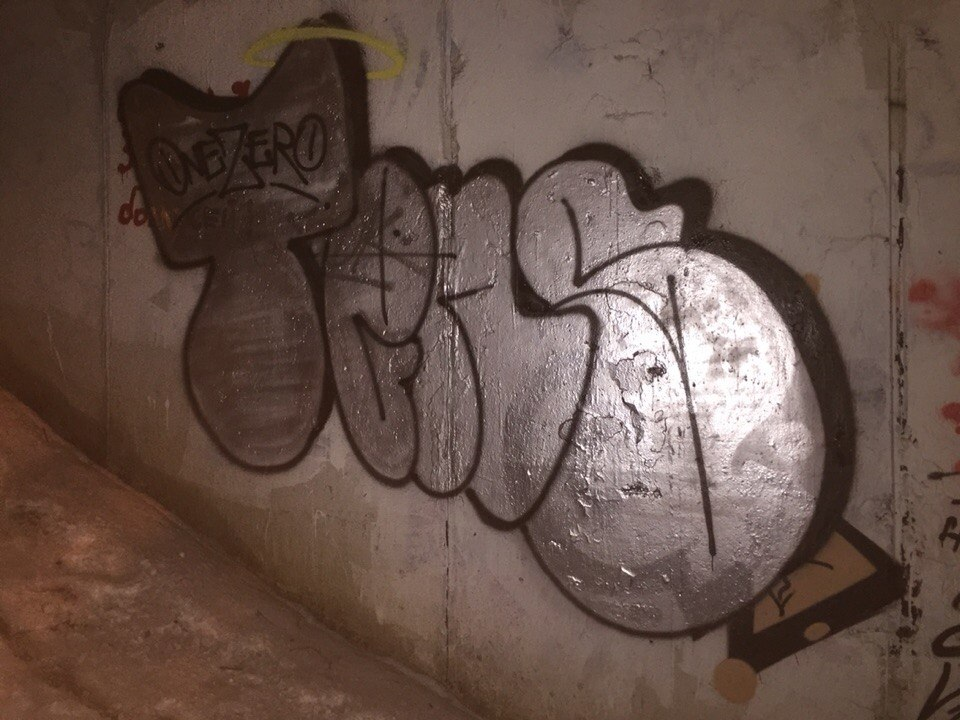graffity: (106, 5, 921, 706)
